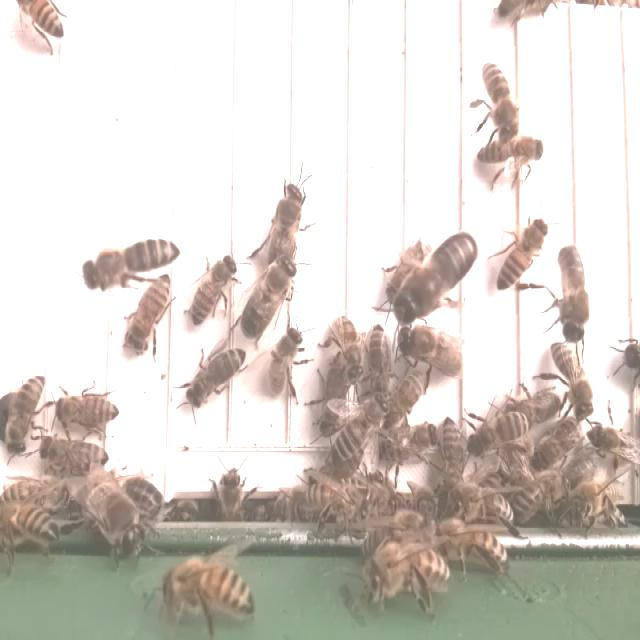Drone: (389, 229, 476, 331), (75, 472, 150, 572), (240, 254, 310, 341), (258, 176, 314, 275), (390, 327, 470, 378)
Worker: (145, 551, 260, 623), (362, 535, 456, 608), (496, 200, 561, 295), (171, 347, 250, 419), (116, 274, 174, 360), (471, 132, 556, 190), (373, 406, 440, 479), (329, 389, 389, 466), (544, 338, 598, 421), (1, 372, 49, 464), (263, 321, 313, 409), (555, 478, 631, 535), (472, 56, 519, 148), (190, 251, 240, 331), (36, 428, 119, 476), (434, 511, 506, 566), (458, 403, 524, 462), (305, 474, 374, 530), (49, 379, 119, 433), (579, 411, 640, 468), (212, 460, 262, 522), (326, 312, 364, 390), (446, 486, 524, 523), (534, 420, 582, 471)
